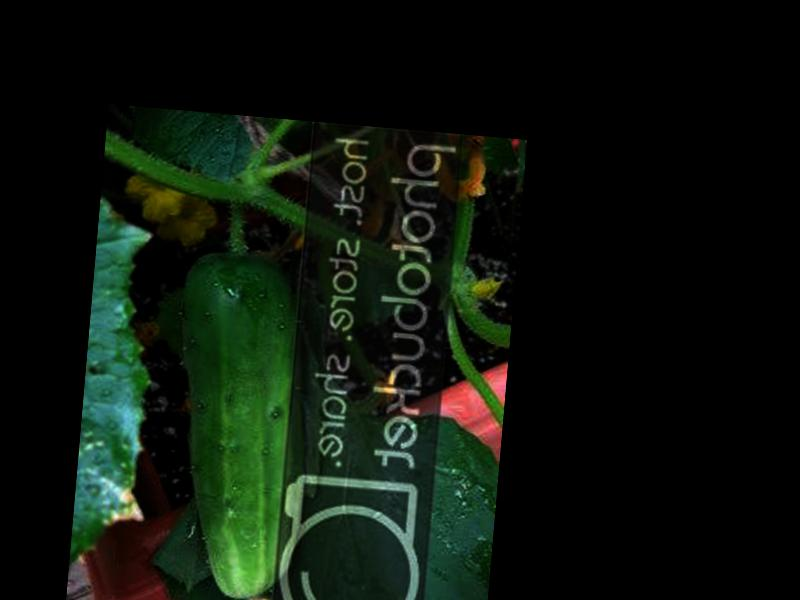Cucumber: (156, 251, 323, 600)
